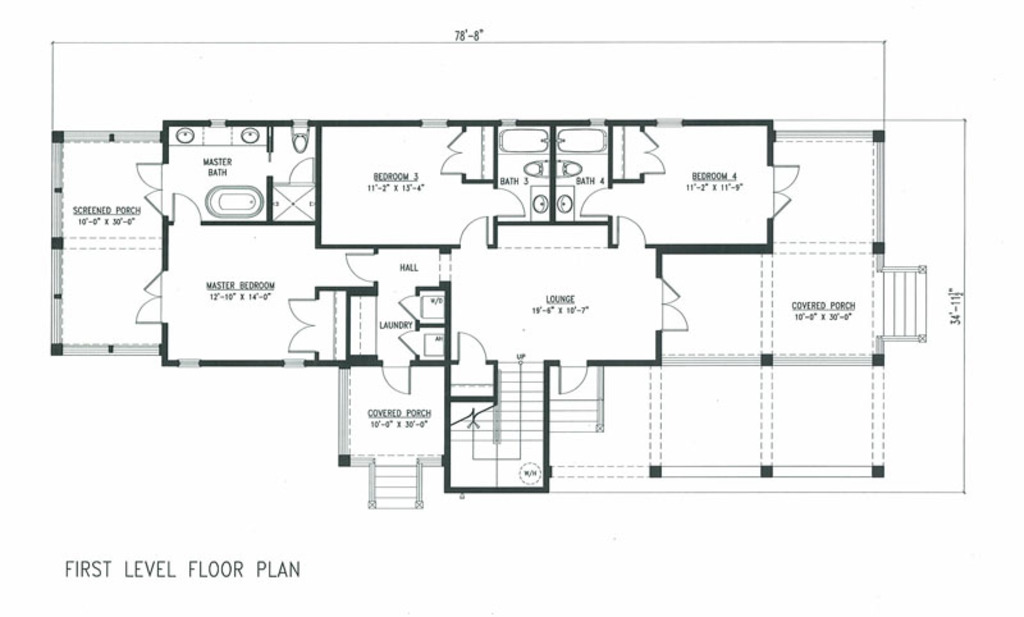door: (652, 278, 689, 334), (768, 161, 803, 220), (130, 270, 167, 325), (284, 296, 317, 357), (133, 158, 165, 219), (642, 128, 668, 180), (612, 213, 649, 249), (380, 362, 417, 398), (167, 191, 205, 226), (437, 129, 463, 178), (556, 363, 589, 397), (491, 187, 527, 218), (345, 250, 376, 285), (580, 187, 611, 221), (457, 216, 491, 247), (457, 330, 489, 362), (392, 291, 424, 321), (286, 156, 316, 185), (394, 328, 422, 355)
large_sink: (286, 123, 310, 156), (520, 157, 552, 179), (557, 159, 584, 179)
small_sink: (168, 126, 210, 147), (230, 125, 267, 147)
stairs: (448, 359, 544, 487), (879, 266, 931, 343), (369, 452, 426, 509), (551, 396, 606, 435), (791, 160, 821, 212)
tub: (203, 182, 264, 218), (554, 124, 611, 154), (499, 127, 551, 155)
windows: (653, 114, 684, 130), (277, 355, 310, 370), (420, 117, 450, 129), (174, 357, 199, 370)
